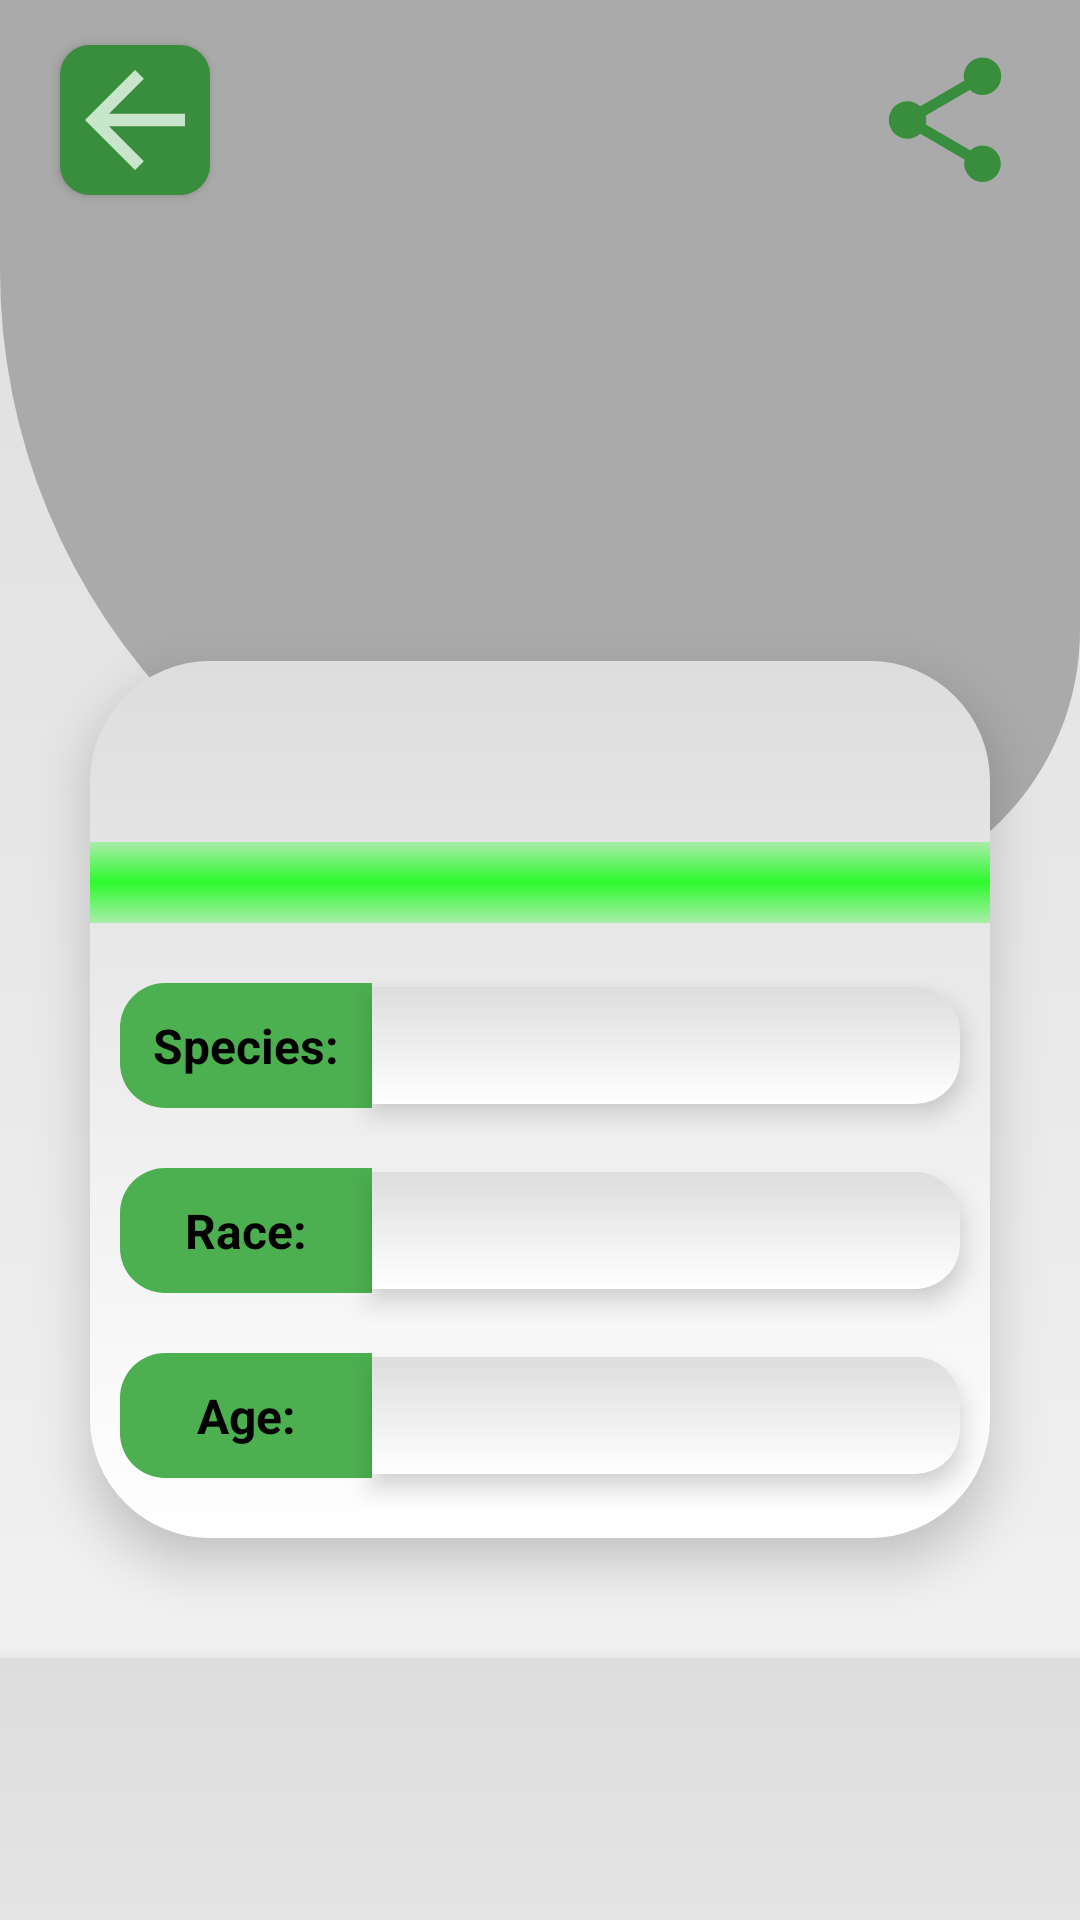

Point at icon controls on the screen. Image size 1080*1920, points as [x,y].
share: [945,119]
